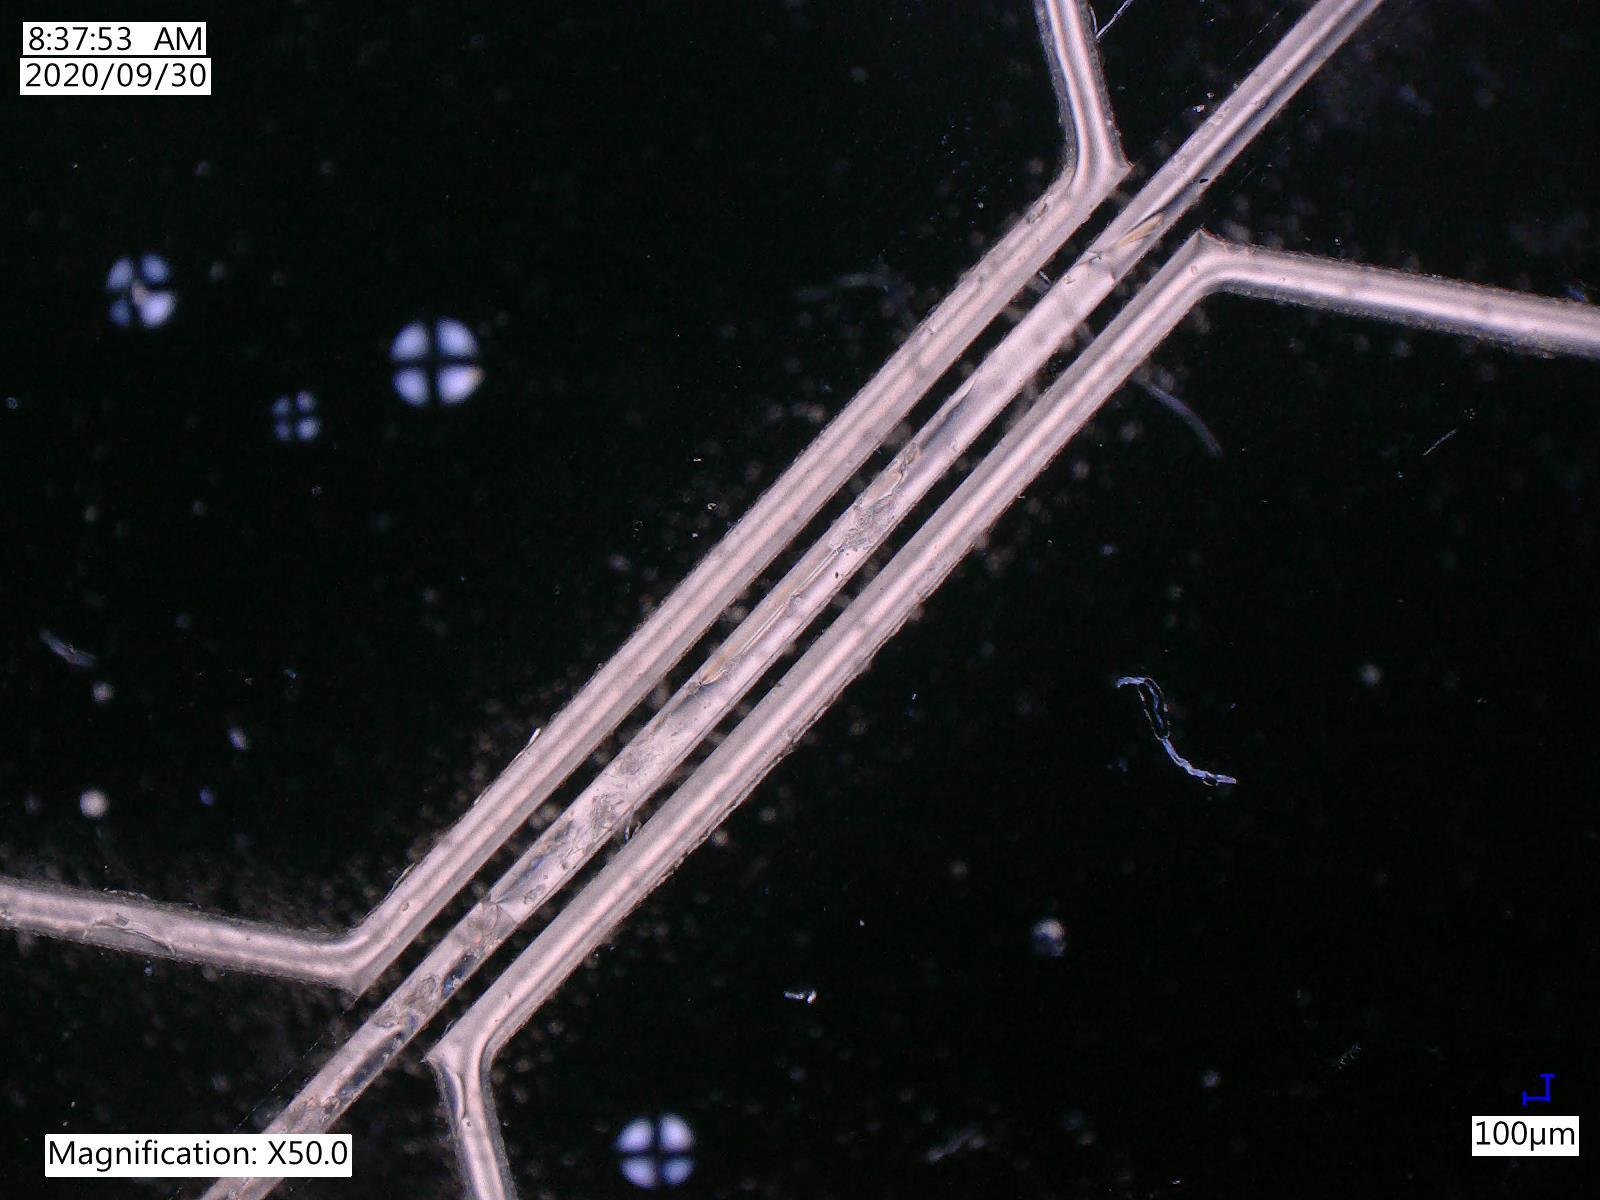sediment: (459, 906, 503, 959), (404, 974, 441, 1016), (583, 794, 624, 831)
